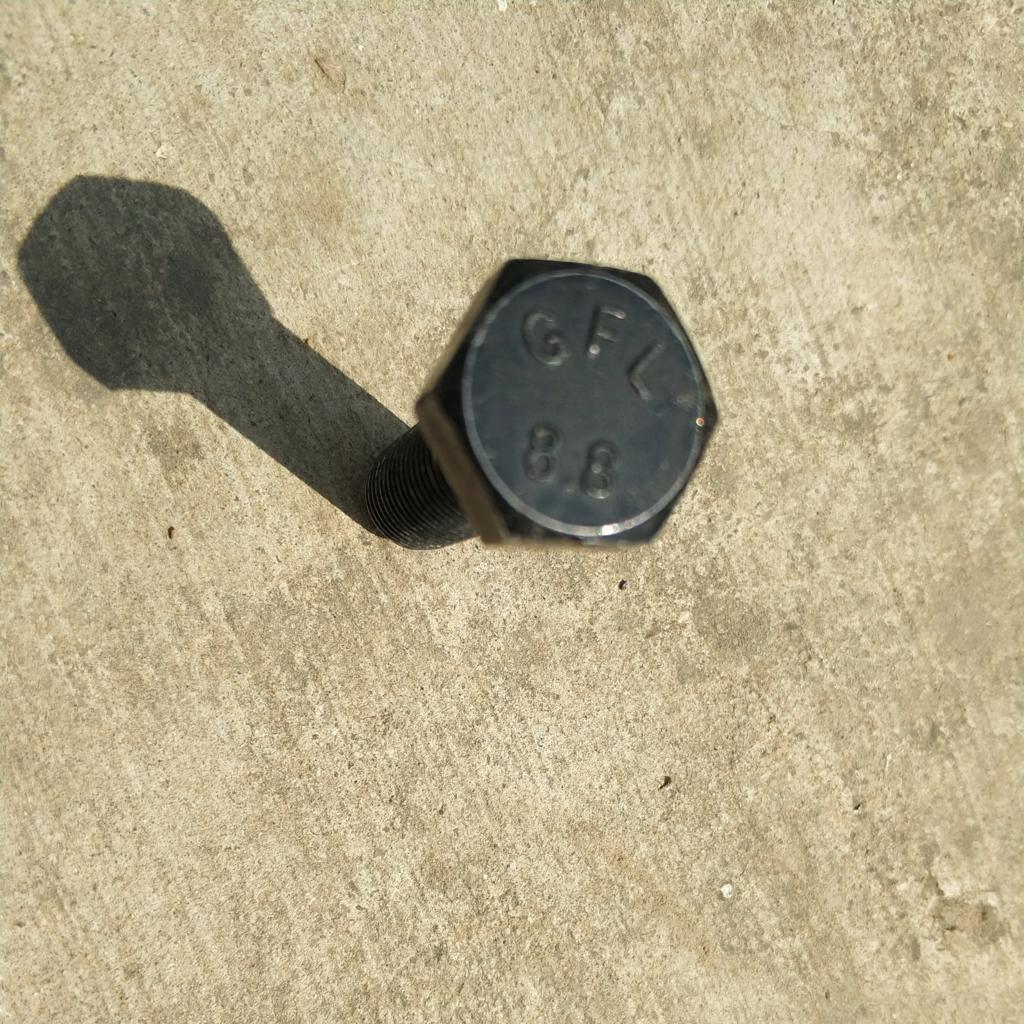screwtype2black: (361, 248, 731, 579)
